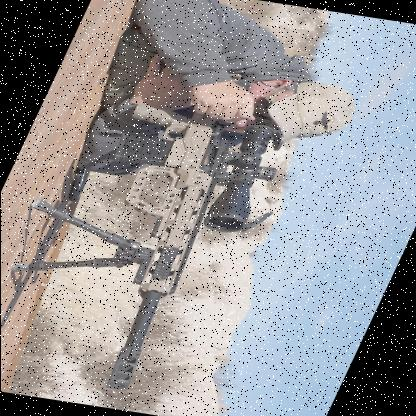rifle: (7, 103, 283, 399)
